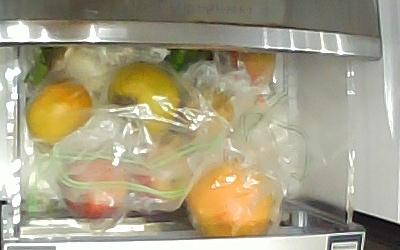apple_vinyl: (62, 152, 127, 221), (124, 141, 187, 208)
grapefruit_vinyl: (187, 163, 274, 237)
persimmon_vinyl: (108, 62, 181, 140), (30, 79, 93, 144)
prune_vinyl: (229, 52, 275, 85)
